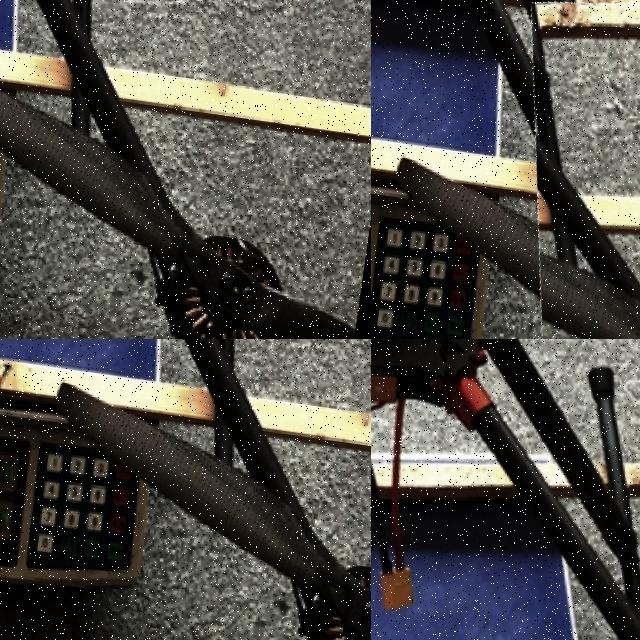0: (490, 0, 640, 339)
drone: (371, 339, 640, 640)
